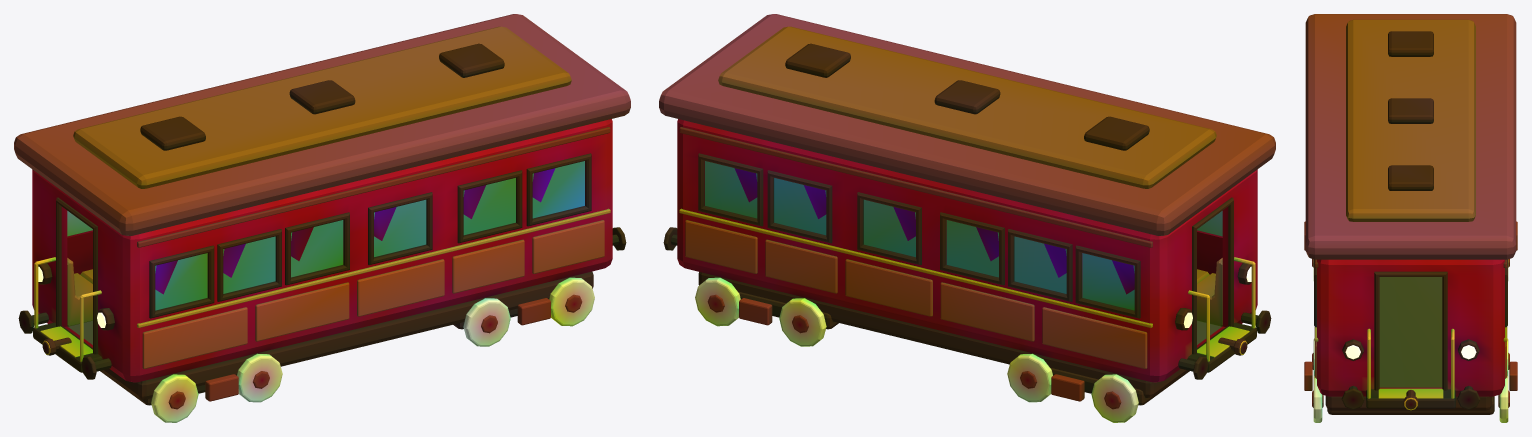
The model's file is RegionalWagon_Closed_Blockout.fbx.
3 renders of one model, left to right at view 1: azimuth 30°, elevation 25°; view 2: azimuth 150°, elevation 25°; view 3: azimuth 270°, elevation 25°, orthographic. The views are drawn at different scales.
Parts seen in each view (by area): view 1: Roof, Body, Windows, Livery, Underframe, Ends, Interior; view 2: Roof, Body, Windows, Livery, Underframe, Ends, Interior; view 3: Roof, Body, Interior, Ends, Underframe, Windows, Livery, Coupler_Front.
Part boxes in pixels (x1,y1,x2,y2): Roof: (14,14,630,235); Body: (32,119,612,382); Windows: (67,153,591,318); Livery: (137,127,610,368); Underframe: (100,271,594,422); Ends: (18,197,626,379); Interior: (67,258,92,344); Roof: (659,14,1275,235); Body: (677,119,1257,382); Windows: (698,153,1222,318); Livery: (679,127,1152,368); Underframe: (695,272,1189,422); Ends: (663,197,1271,379); Interior: (1197,258,1222,344); Roof: (1305,14,1516,259); Body: (1317,259,1504,396); Interior: (1379,277,1442,387); Ends: (1341,271,1480,409); Underframe: (1304,221,1517,422); Windows: (1314,259,1507,327); Livery: (1314,259,1507,378); Coupler_Front: (1403,390,1418,410).
Size of the model in its own units: 8.16 by 3.44 by 2.96.
